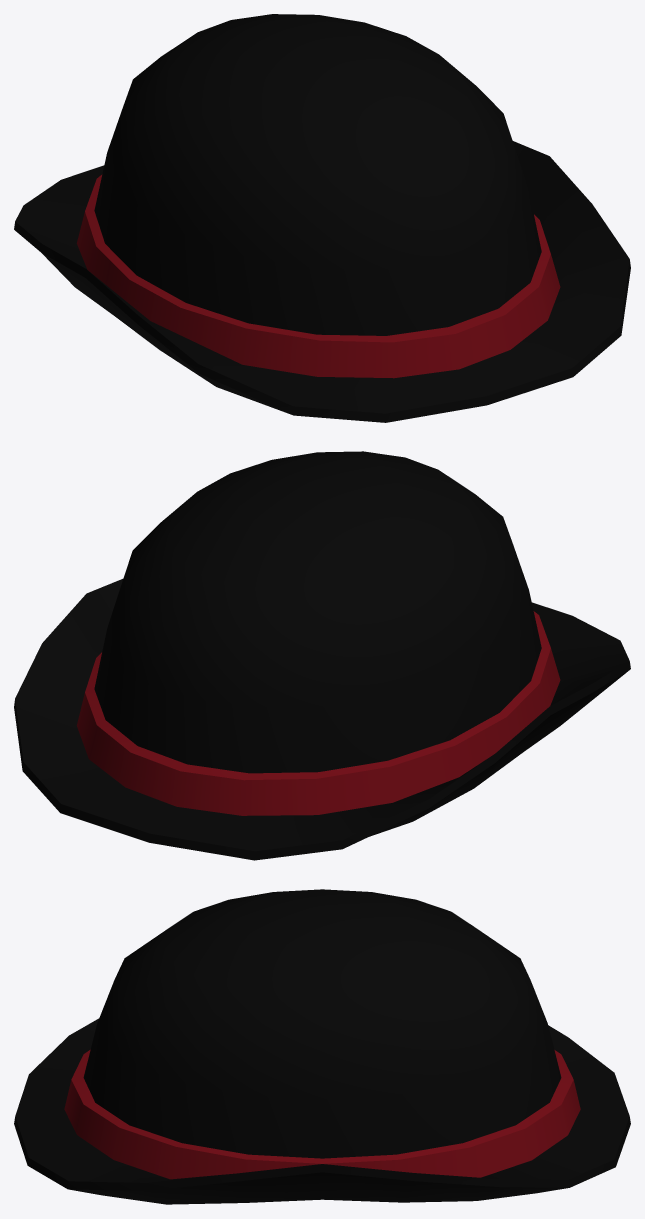
The model's file is Chapeu.fbx.
3 renders of one model, top to bottom at view 1: azimuth 30°, elevation 25°; view 2: azimuth 150°, elevation 25°; view 3: azimuth 270°, elevation 25°, orthographic. The views are drawn at different scales.
Visible parts, largest first — view 1: Chapéu; view 2: Chapéu; view 3: Chapéu.
Part boxes in pixels (left/top/right/bottom): Chapéu: left=14, top=14, right=630, bottom=422; Chapéu: left=14, top=451, right=630, bottom=860; Chapéu: left=14, top=889, right=630, bottom=1204.
Bounding box in the file's own units: 105 × 53.3 × 132.
